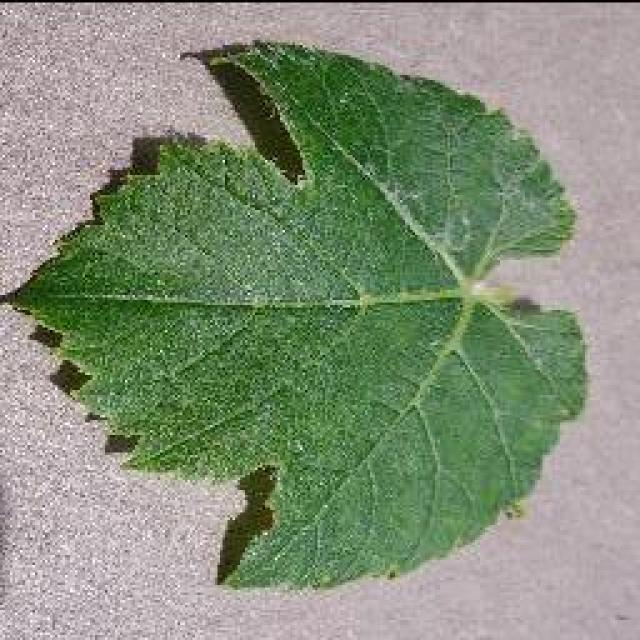Grape___healthy: (15, 42, 585, 585)
